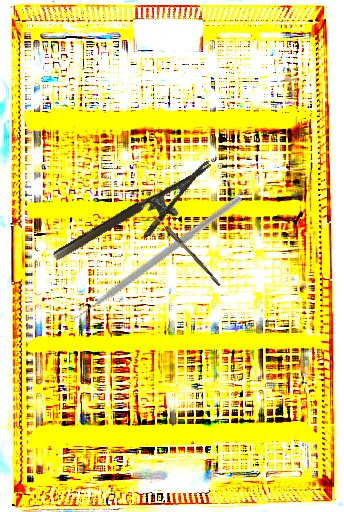Chopper: (56, 150, 244, 362)
Needle Holder: (51, 159, 227, 283)
Surgical Spoon: (145, 206, 223, 287)
